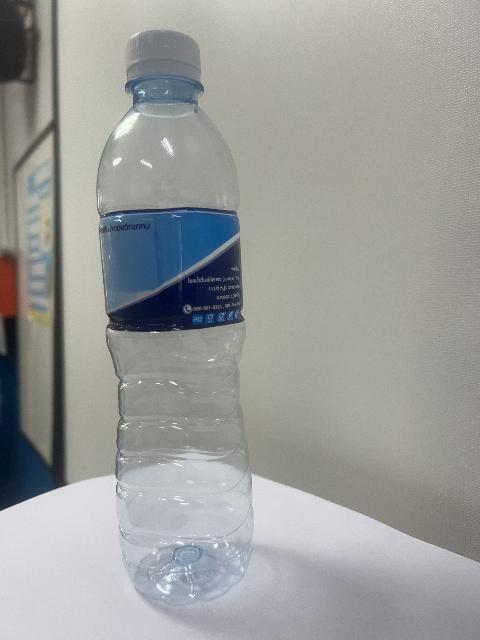bottle: (97, 30, 253, 605)
